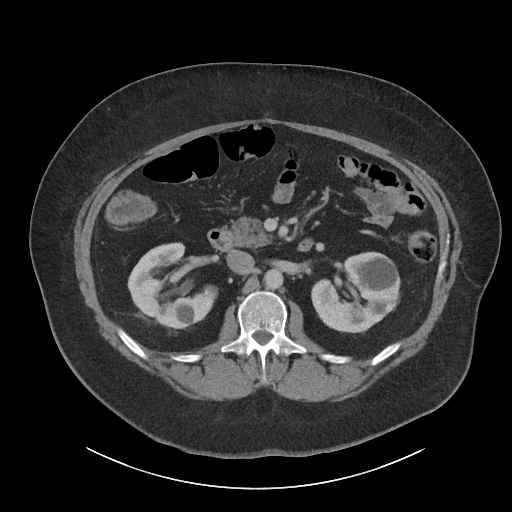Lesion: (353, 255, 399, 293)
